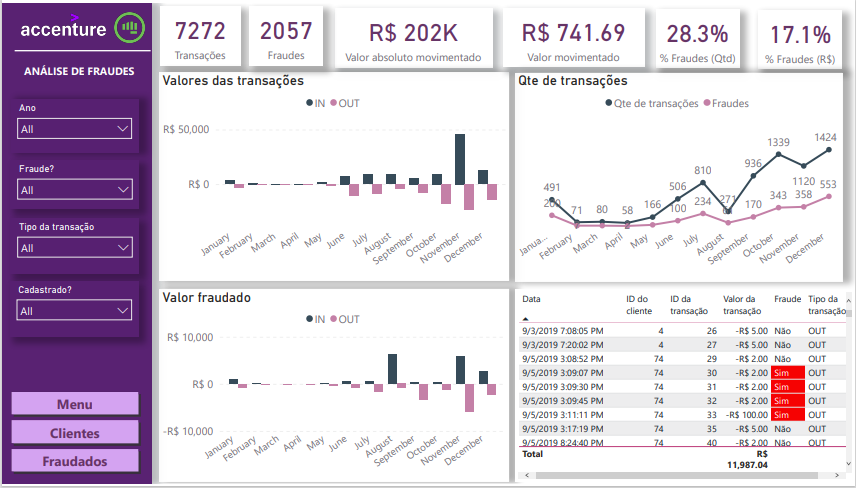

The page's visual inventory and layout, read from the dashboard file:
{"tool":"powerbi","page":{"name":"Transação","canvas":[1280,720],"ordinal":1},"visuals":[{"type":"shape","box":[0,0,224.6,720.4],"z":0},{"type":"slicer","fields":{"Values":["transformacao_clientes_fraudes.data.Variation.Date Hierarchy.Year"]},"box":[12.7,143.7,192.4,79.8],"z":1000},{"type":"slicer","fields":{"Values":["transformacao_clientes_fraudes.Fraude"]},"box":[12.5,235.5,193.2,73.2],"z":2000},{"type":"card","title":"Clientes que transacionaram","fields":{"Values":["CountNonNull(transacao_clientes_fraudes.id)"]},"box":[236.6,4.4,121.2,89.1],"z":3000},{"type":"slicer","fields":{"Values":["transformacao_clientes_fraudes.tipo_transacao"]},"box":[12.5,321.8,193.2,83.4],"z":4000},{"type":"card","fields":{"Values":["Sum(transacao_clientes_fraudes.Valor absoluto)"]},"box":[511.2,7.3,224.9,89.1],"z":5000},{"type":"clusteredColumnChart","title":"Valores das transações","fields":{"Category":["transformacao_clientes_fraudes.data.Variation.Date Hierarchy.Month"],"Y":["Sum(transformacao_clientes_fraudes.valor)"],"Series":["transformacao_clientes_fraudes.tipo_transacao"]},"box":[236.2,104.2,525.5,311.7],"z":6000},{"type":"pageNavigator","box":[10,578.2,199.5,131.2],"z":7000},{"type":"slicer","fields":{"Values":["clientes_cadastro.Nome (groups)"]},"box":[11.8,415.9,193.3,83.3],"z":8000},{"type":"image","box":[25,0,136.5,62.8],"z":9000},{"type":"image","box":[164.4,8.2,54.7,54.7],"z":10000},{"type":"shape","box":[19.2,54,203.9,34.1],"z":11000},{"type":"textbox","box":[15.6,85.4,200.3,44],"z":12000},{"type":"card","title":"Clientes que transacionaram","fields":{"Values":["CountNonNull(transacao_clientes_fraudes.cliente_id)"]},"box":[388.5,5.8,111,89.1],"z":14000},{"type":"card","fields":{"Values":["Sum(transacao_clientes_fraudes.Valor absoluto)"]},"box":[752.1,7.3,211.8,87.6],"z":16000},{"type":"card","title":"Clientes que transacionaram","fields":{"Values":["transacao_clientes_fraudes.Taxa Qtd Fraudes"]},"box":[981.4,8.8,125.6,87.6],"z":17000},{"type":"card","title":"Clientes que transacionaram","fields":{"Values":["transacao_clientes_fraudes.Taxa Fraudes (R$)"]},"box":[1134.8,10.2,125.6,87.6],"z":18000},{"type":"lineChart","title":"Qte de transações","fields":{"Category":["transformacao_clientes_fraudes.data.Variation.Date Hierarchy.Month"],"Y":["CountNonNull(transformacao_clientes_fraudes.id)","transacao_clientes_fraudes.Transações Fraudes"]},"box":[769.8,104.2,491.3,311.7],"z":19000},{"type":"clusteredColumnChart","title":"Valor fraudado","fields":{"Category":["transformacao_clientes_fraudes.data.Variation.Date Hierarchy.Month"],"Y":["Sum(transformacao_clientes_fraudes.valor)"],"Series":["transformacao_clientes_fraudes.tipo_transacao"]},"box":[236.2,427.6,525.5,289.2],"z":20000},{"type":"tableEx","fields":{"Values":["transformacao_clientes_fraudes.data","Sum(transformacao_clientes_fraudes.cliente_id)","Sum(transformacao_clientes_fraudes.id)","Sum(transformacao_clientes_fraudes.valor)","transformacao_clientes_fraudes.Fraude","transformacao_clientes_fraudes.tipo_transacao"]},"box":[787.2,427.9,492.2,289.2],"z":21000}]}

Visuals, with their boxes in screenshot pixels (x1, y1, x2, y2), scaled from the page's 1280x720 canvas onto the 856x488 screenshot:
shape: rect(0, 0, 150, 487)
slicer - transformacao_clientes_fraudes.data.Variation.Date Hierarchy.Year: rect(8, 97, 137, 151)
slicer - transformacao_clientes_fraudes.Fraude: rect(8, 160, 138, 209)
"Clientes que transacionaram" card: rect(158, 3, 239, 63)
slicer - transformacao_clientes_fraudes.tipo_transacao: rect(8, 218, 138, 275)
card - Sum(transacao_clientes_fraudes.Valor absoluto): rect(342, 5, 492, 65)
"Valores das transações" clusteredColumnChart: rect(158, 71, 509, 282)
pageNavigator: rect(7, 392, 140, 481)
slicer - clientes_cadastro.Nome (groups): rect(8, 282, 137, 338)
image: rect(17, 0, 108, 43)
image: rect(110, 6, 147, 43)
shape: rect(13, 37, 149, 60)
textbox: rect(10, 58, 144, 88)
"Clientes que transacionaram" card: rect(260, 4, 334, 64)
card - Sum(transacao_clientes_fraudes.Valor absoluto): rect(503, 5, 645, 64)
"Clientes que transacionaram" card: rect(656, 6, 740, 65)
"Clientes que transacionaram" card: rect(759, 7, 843, 66)
"Qte de transações" lineChart: rect(515, 71, 843, 282)
"Valor fraudado" clusteredColumnChart: rect(158, 290, 509, 486)
tableEx - transformacao_clientes_fraudes.data x Sum(transformacao_clientes_fraudes.cliente_id): rect(526, 290, 855, 486)
